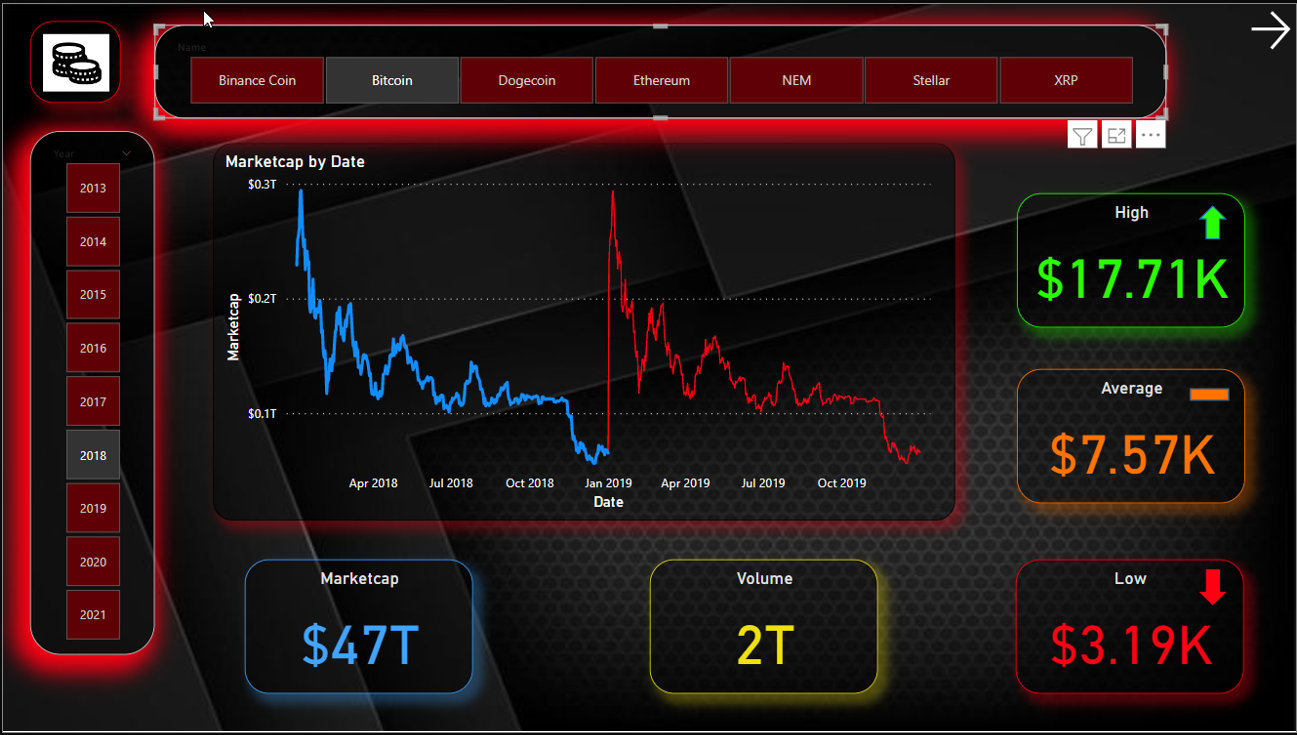

Layout of this report page (visuals, bound fields, positions):
{"tool":"powerbi","page":{"name":"Page 1","canvas":[1280,720],"ordinal":0},"visuals":[{"type":"slicer","title":"Coin","fields":{"Values":["CryptoData.Name"]},"box":[150.8,20.5,1001,92.9],"z":0},{"type":"slicer","title":"Year","fields":{"Values":["CryptoData.Year"]},"box":[27.7,125.4,123,517.4],"z":1000},{"type":"lineChart","fields":{"Y":["Sum(CryptoData.Marketcap)"],"Category":["CryptoData.Date"]},"box":[208.6,137.5,733.3,372.7],"z":2000},{"type":"card","title":"Marketcap","fields":{"Values":["Sum(CryptoData.Marketcap)"]},"box":[240,548.7,225.5,132.7],"z":3000},{"type":"card","title":"High","fields":{"Values":["Max(CryptoData.High)"]},"box":[1003.4,186.9,225.5,132.7],"z":4000},{"type":"card","title":"Low","fields":{"Values":["Min(CryptoData.Low)"]},"box":[1002.2,548.7,225.5,132.7],"z":5000},{"type":"card","title":"Volume","fields":{"Values":["Sum(CryptoData.Volume)"]},"box":[640.4,548.7,225.5,132.7],"z":6000},{"type":"card","title":"Average","fields":{"Values":["Avg(CryptoData.Average)"]},"box":[1003.4,360.6,225.5,132.7],"z":7000},{"type":"shape","box":[1183.1,199,27.7,33.8],"z":8000},{"type":"shape","box":[1183.1,558.4,27.7,36.2],"z":9000},{"type":"shape","box":[1174.7,379.9,38.6,12.1],"z":10000},{"type":"actionButton","box":[1228.9,0,49.4,51.9],"z":11000},{"type":"image","box":[27.7,16.9,89.2,80.8],"z":12000}]}

Visuals, with their boxes in screenshot pixels (x1, y1, x2, y2), scaled from the page's 1280x720 canvas onto the 1297x735 screenshot:
"Coin" slicer: [153,21,1167,116]
"Year" slicer: [28,128,153,656]
lineChart - Sum(CryptoData.Marketcap) x CryptoData.Date: [211,140,954,521]
"Marketcap" card: [243,560,472,696]
"High" card: [1017,191,1245,326]
"Low" card: [1016,560,1244,696]
"Volume" card: [649,560,877,696]
"Average" card: [1017,368,1245,504]
shape: [1199,203,1227,238]
shape: [1199,570,1227,607]
shape: [1190,388,1229,400]
actionButton: [1245,0,1295,53]
image: [28,17,118,100]
